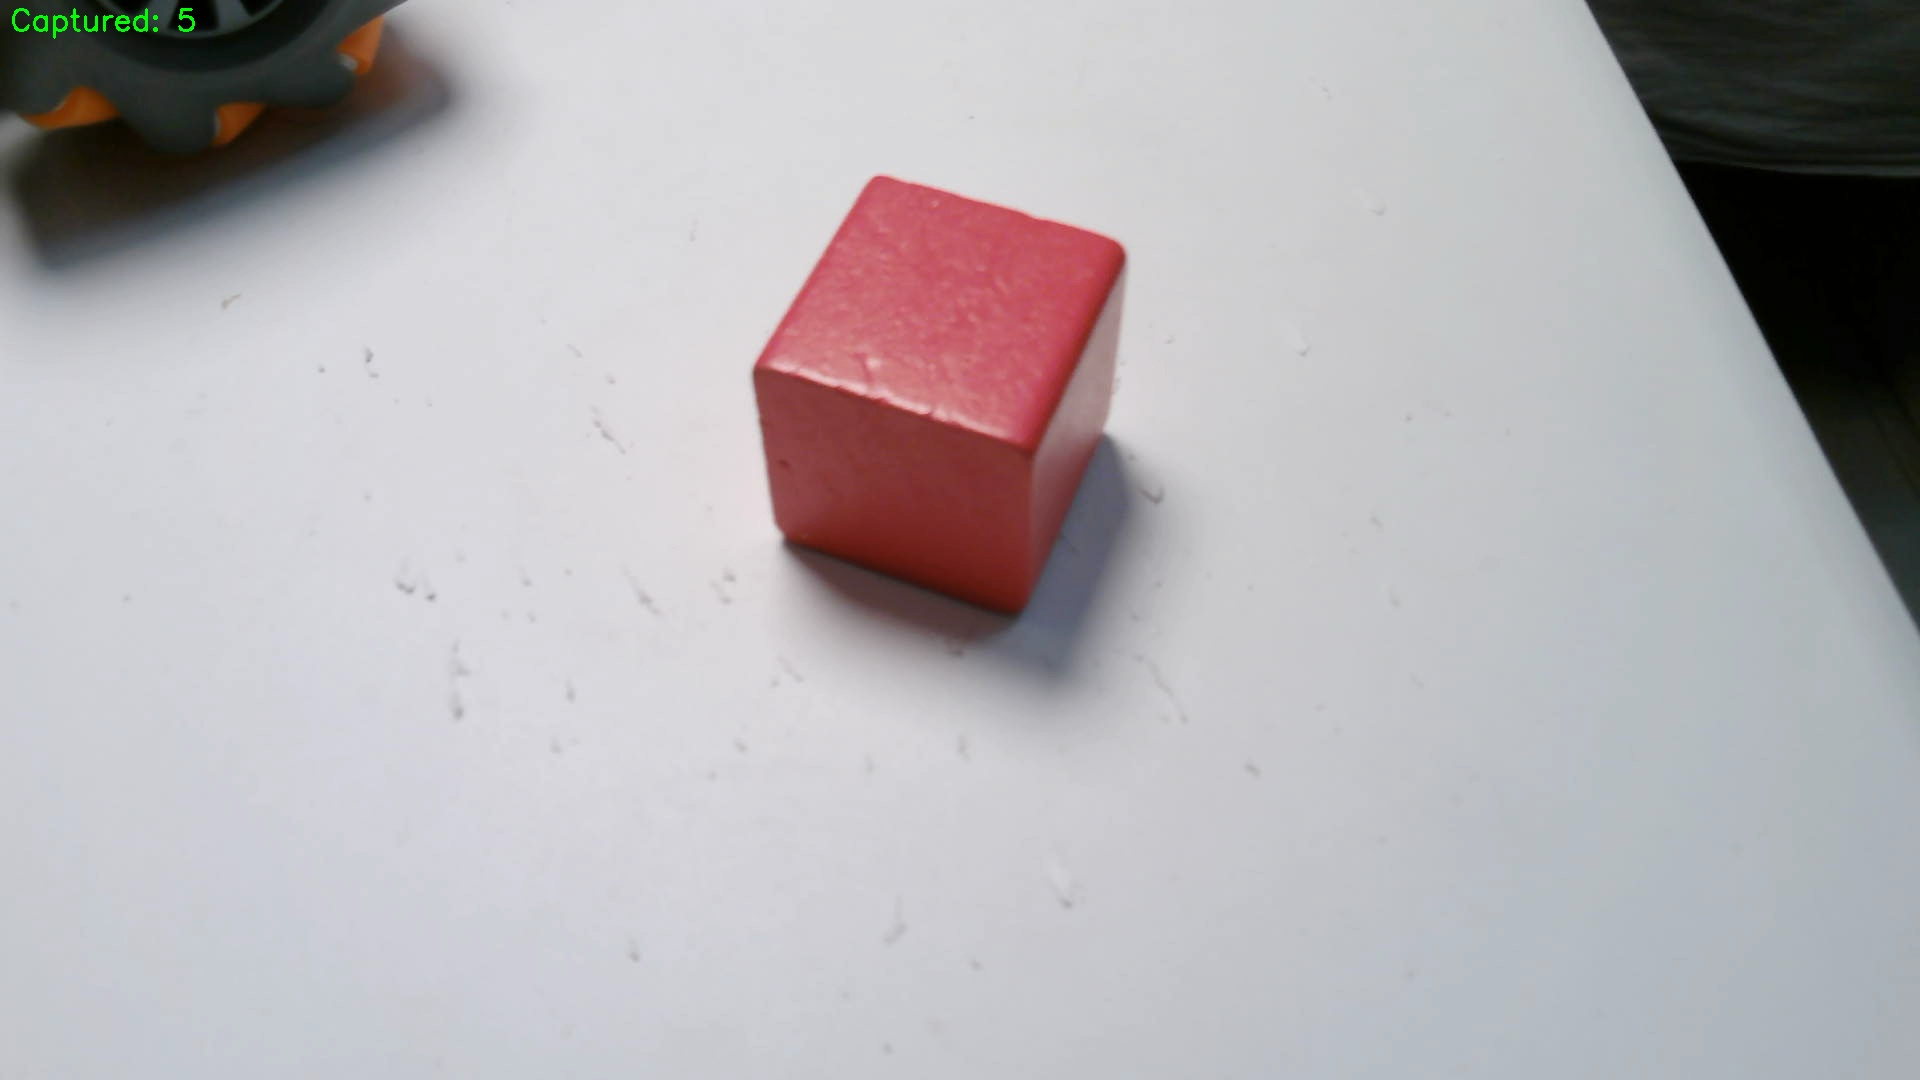red: (761, 167, 1124, 613)
